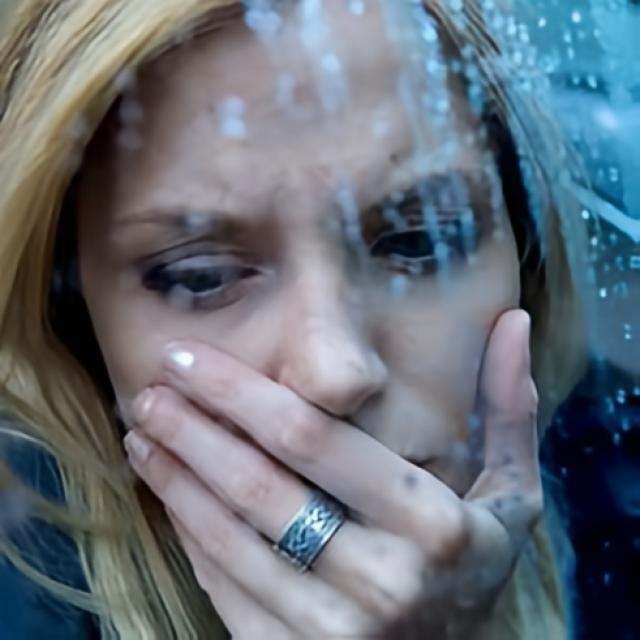sad: (71, 0, 524, 640)
